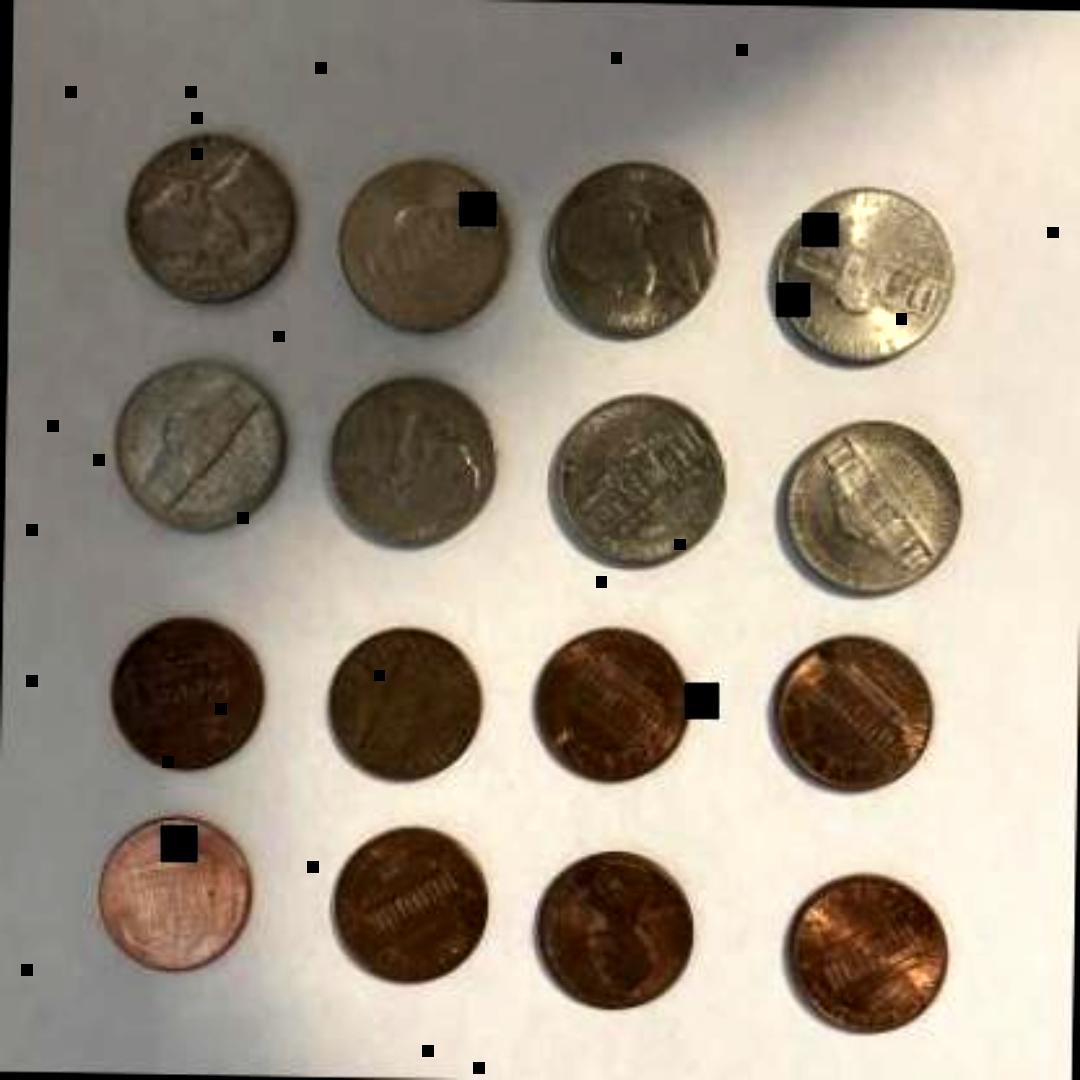Nickel: (763, 180, 962, 378), (327, 144, 508, 351), (540, 146, 720, 352), (775, 421, 969, 607), (543, 388, 724, 587), (104, 352, 288, 546), (314, 374, 496, 568), (116, 122, 296, 316)
Penny: (762, 628, 942, 808), (518, 621, 690, 807), (770, 864, 944, 1044), (528, 840, 690, 1022), (322, 818, 486, 992), (91, 810, 255, 984), (103, 614, 263, 788), (320, 623, 482, 791)
